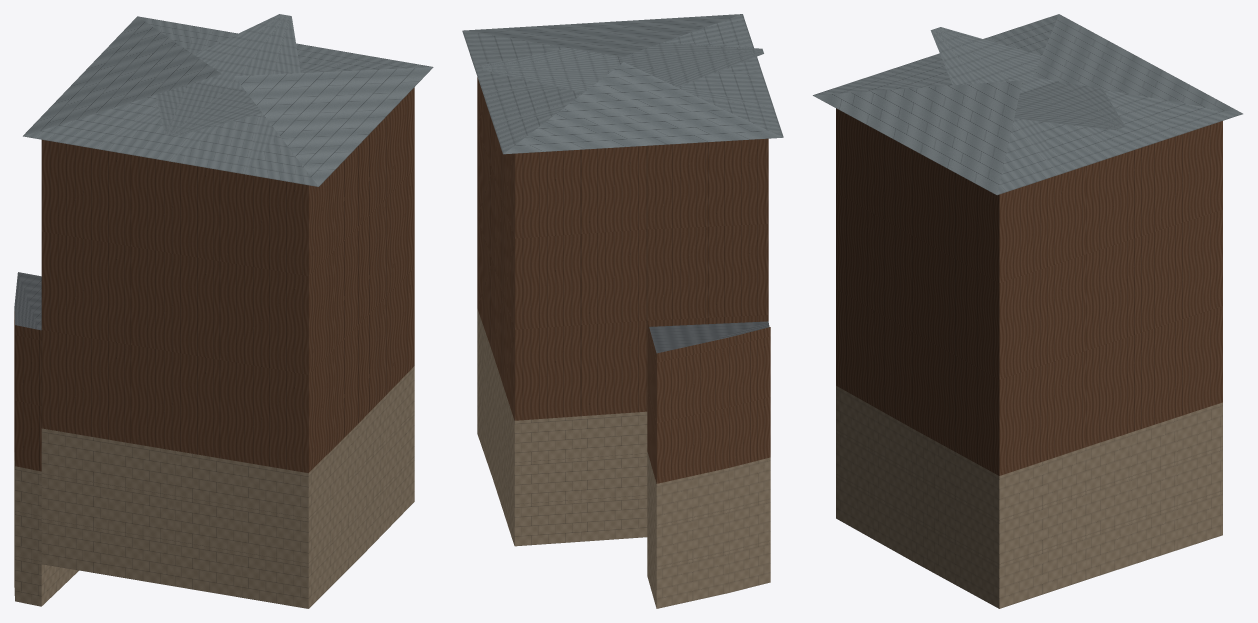
The model's file is bld_c-9_41_518.gltf.
3 views of the same model, side by side, from view 1: azimuth 30°, elevation 25°; view 2: azimuth 150°, elevation 25°; view 3: azimuth 270°, elevation 25° (orthographic). The views are drawn at different scales.
Parts seen in each view (by area): view 1: bld_c-9_41_518; view 2: bld_c-9_41_518; view 3: bld_c-9_41_518.
Part boxes in pixels (x1=…): bld_c-9_41_518: x1=14, y1=14, x2=433, y2=608; bld_c-9_41_518: x1=462, y1=14, x2=783, y2=608; bld_c-9_41_518: x1=813, y1=14, x2=1242, y2=608.
Size of the model in its own units: 14.93 by 18.8 by 15.
5 materials, 5 textured.
